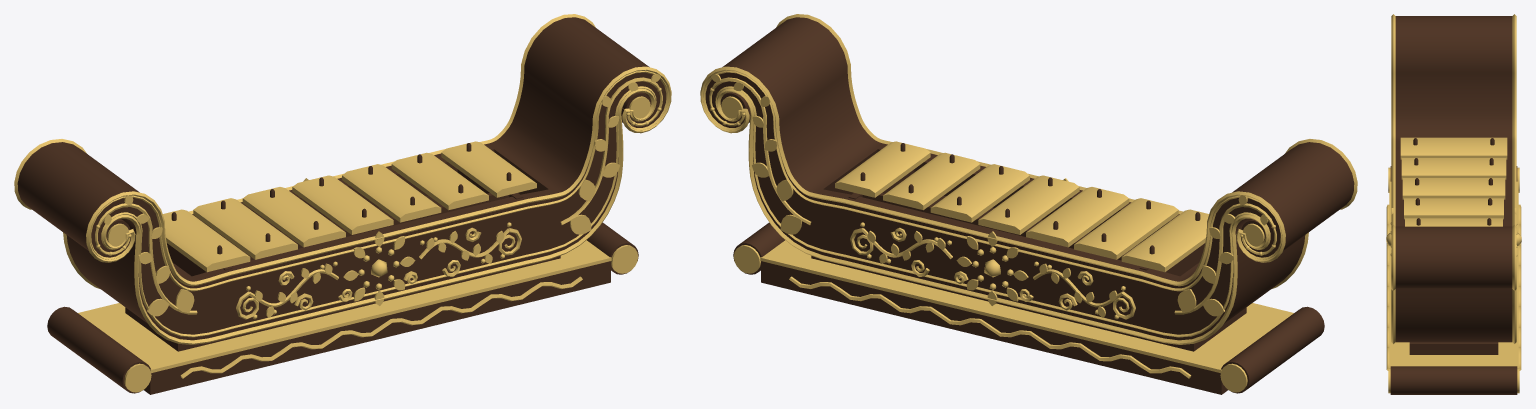
File: gamelar_demung_set.fbx
3 renders of one model, left to right at view 1: azimuth 30°, elevation 25°; view 2: azimuth 150°, elevation 25°; view 3: azimuth 270°, elevation 25°, orthographic. The views are drawn at different scales.
Parts seen in each view (by area): view 1: DemungSet_Mesh; view 2: DemungSet_Mesh; view 3: DemungSet_Mesh.
Part boxes in pixels (x1=…): DemungSet_Mesh: x1=14, y1=14, x2=671, y2=394; DemungSet_Mesh: x1=700, y1=14, x2=1357, y2=394; DemungSet_Mesh: x1=1386, y1=14, x2=1521, y2=394.
Size of the model in its own units: 1.35 by 0.4564 by 0.32.
